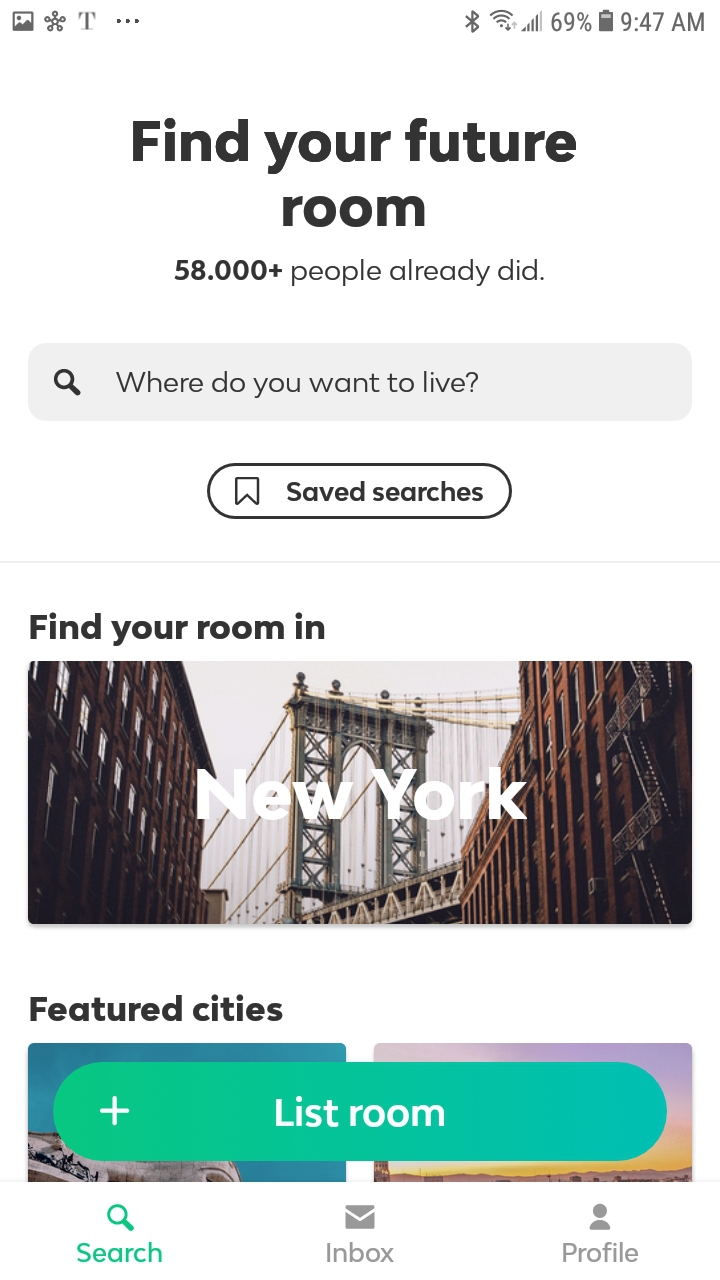EditText: (28, 344, 692, 422)
Icon: (345, 1205, 376, 1230), (107, 1204, 135, 1231), (55, 369, 82, 397), (589, 1203, 611, 1230)
Image: (29, 661, 692, 925)
Text: (133, 119, 577, 229), (196, 767, 527, 821), (175, 259, 545, 287), (30, 612, 325, 647), (117, 371, 479, 399), (30, 994, 284, 1022), (78, 1242, 164, 1263), (563, 1242, 639, 1263), (326, 1241, 395, 1263)
TextButton: (54, 1062, 667, 1161), (207, 463, 513, 520)
UpperTaskBar: (1, 1, 720, 34)
